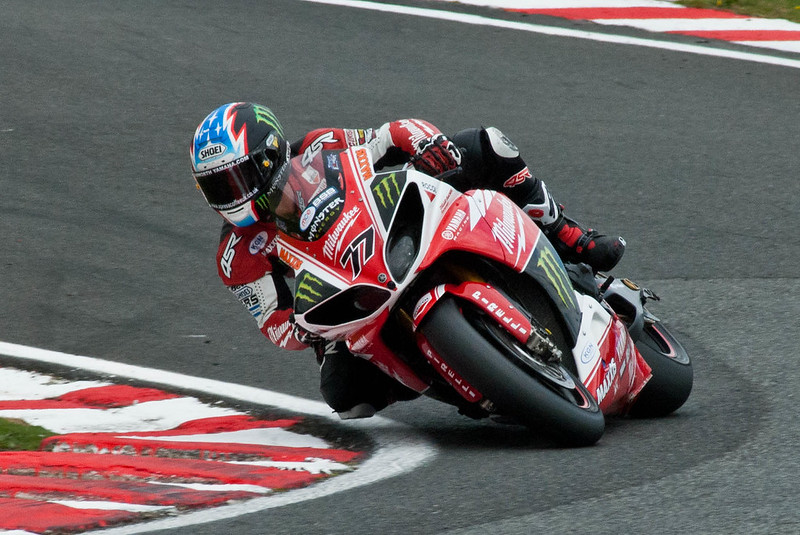helmet: (187, 108, 290, 218)
